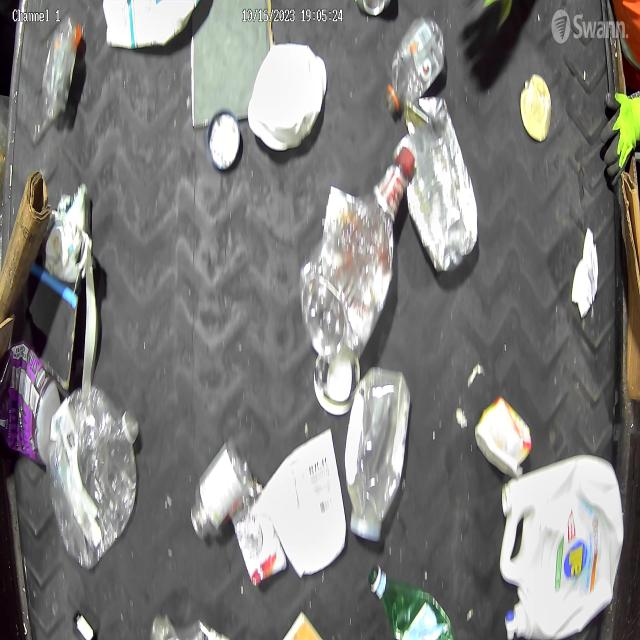can: (391, 97, 479, 276), (231, 478, 287, 591), (313, 352, 362, 416), (355, 0, 393, 17)
milk_jug: (498, 452, 625, 640), (246, 39, 329, 158), (101, 0, 200, 52)
non_white_jug: (0, 342, 61, 468)
plastic_bottle: (300, 146, 417, 358), (48, 386, 140, 569), (385, 18, 446, 121)
